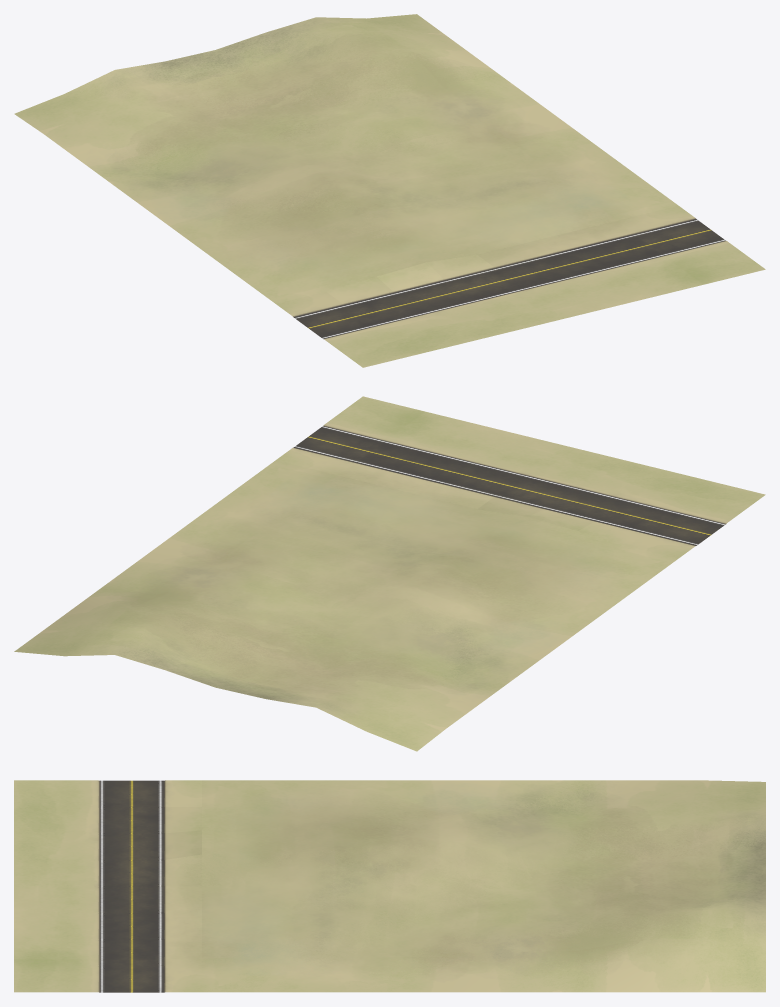
The model's file is chunk2.FBX.
The picture shows the model from 3 angles, top to bottom: view 1: azimuth 30°, elevation 25°; view 2: azimuth 150°, elevation 25°; view 3: azimuth 270°, elevation 25°; orthographic projection. The views are drawn at different scales.
Visible parts, largest first — view 1: Plane001; view 2: Plane001; view 3: Plane001.
Boxes of the visible parts, <box> form: Plane001: <box>14,14,765,367</box>; Plane001: <box>14,396,765,751</box>; Plane001: <box>14,780,765,992</box>.
Bounding box in the file's own units: 1575 × 118 × 2362.
